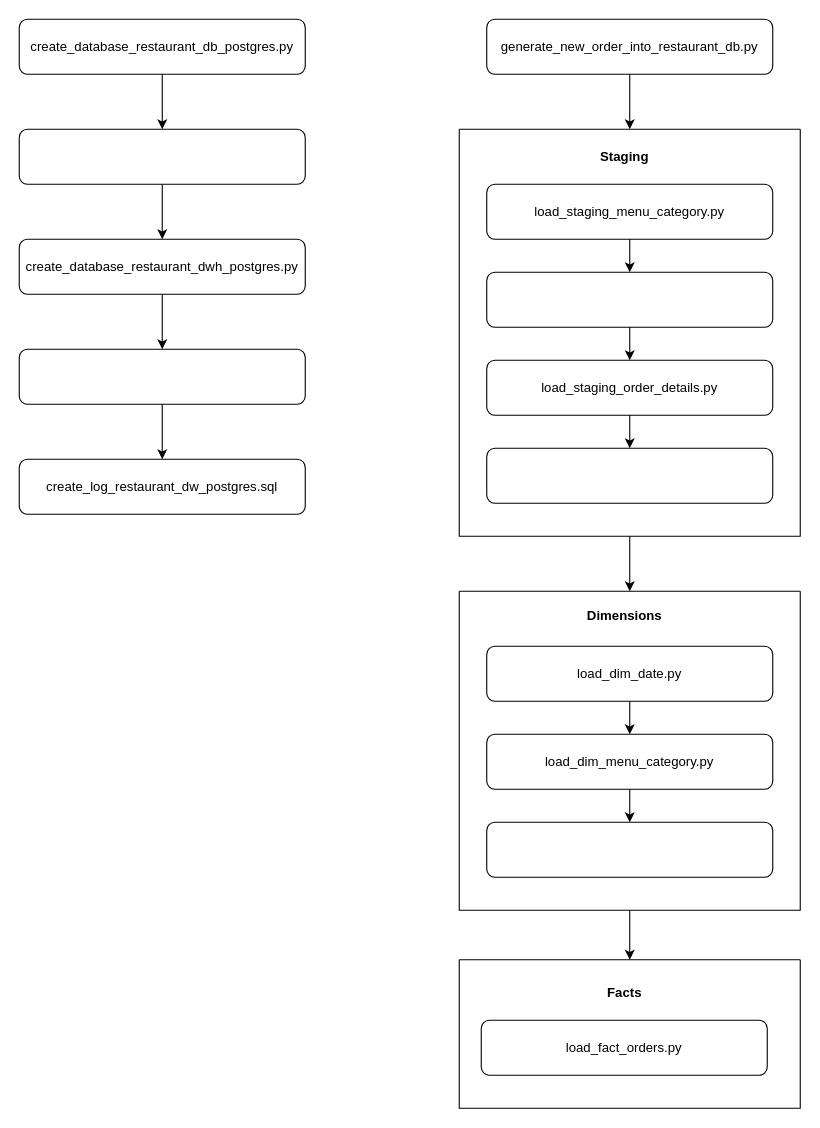
This 820x1128 diagram has some shape labels left out. The centre of each missing label's shape, as x and y in pixels:
create_tables_restaurant_db_postgres.sql: the point at 161,156
create_tables_restaurant_dwh_postgres.sql: the point at 161,376
load_dim_menu_items.py: the point at 629,849
load_staging_menu_items.py: the point at 629,299
load_staging_orders.py: the point at 629,475
